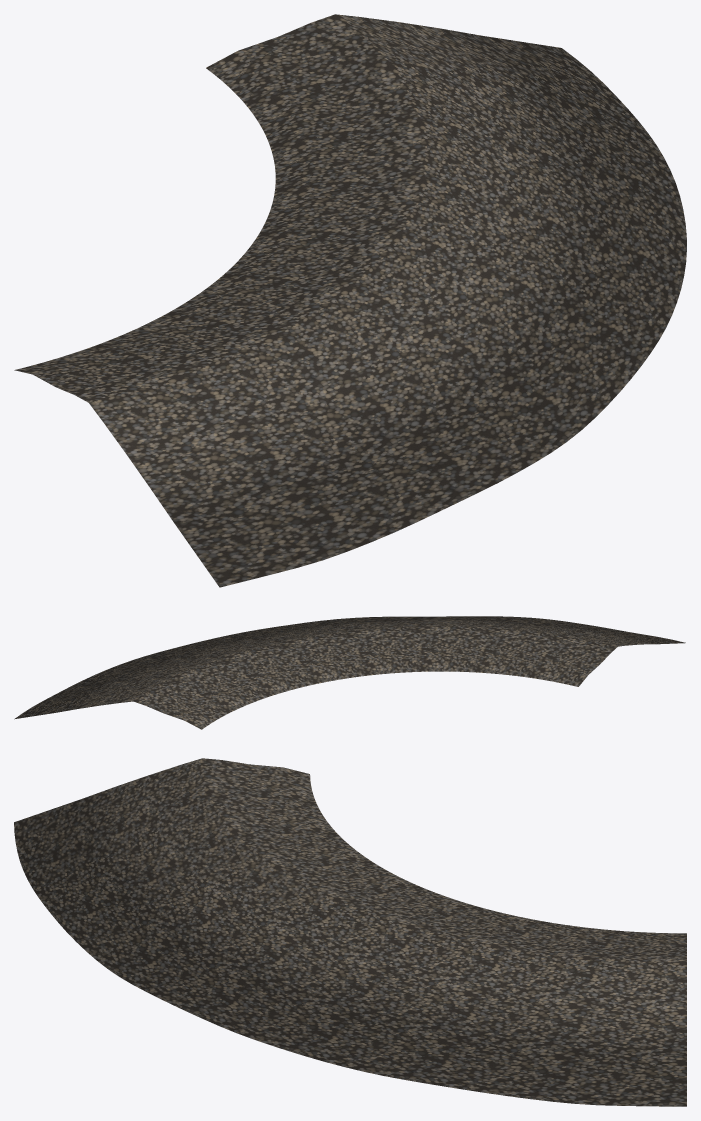
Rendered from beach_shingle_outer_v5_dead.glb.
The picture shows the model from 3 angles, top to bottom: view 1: azimuth 30°, elevation 25°; view 2: azimuth 150°, elevation 25°; view 3: azimuth 270°, elevation 25°; orthographic projection. The views are drawn at different scales.
Parts seen in each view (by area): view 1: beach_shingle_outer; view 2: beach_shingle_outer; view 3: beach_shingle_outer.
Boxes of the visible parts, x1,y1,x2,y2 form: beach_shingle_outer: (14,14,686,587); beach_shingle_outer: (14,616,685,729); beach_shingle_outer: (14,758,686,1106).
Size of the model in its own units: 10 by 1.1 by 10.
Materials: 1 (1 with a texture image).
